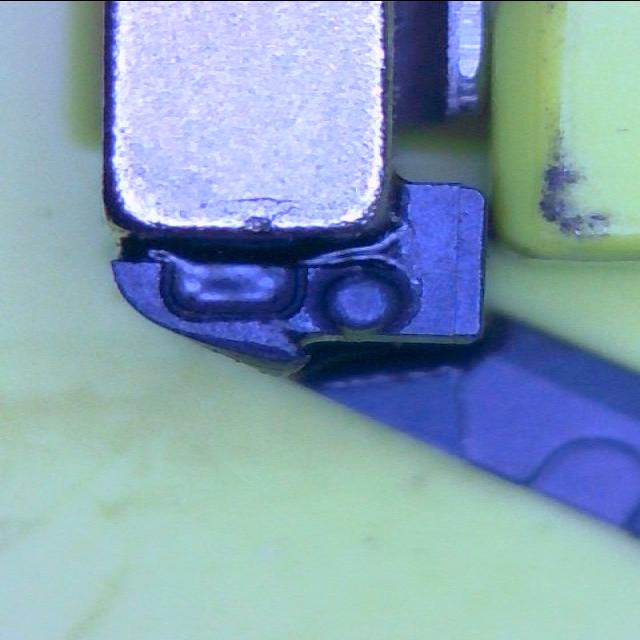over: (156, 250, 308, 320)
